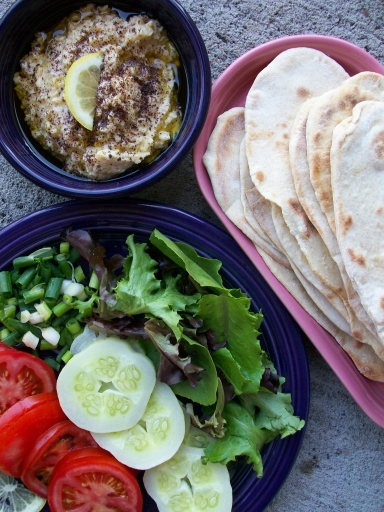background: (0, 182, 184, 409), (109, 37, 230, 306), (7, 2, 109, 144)
